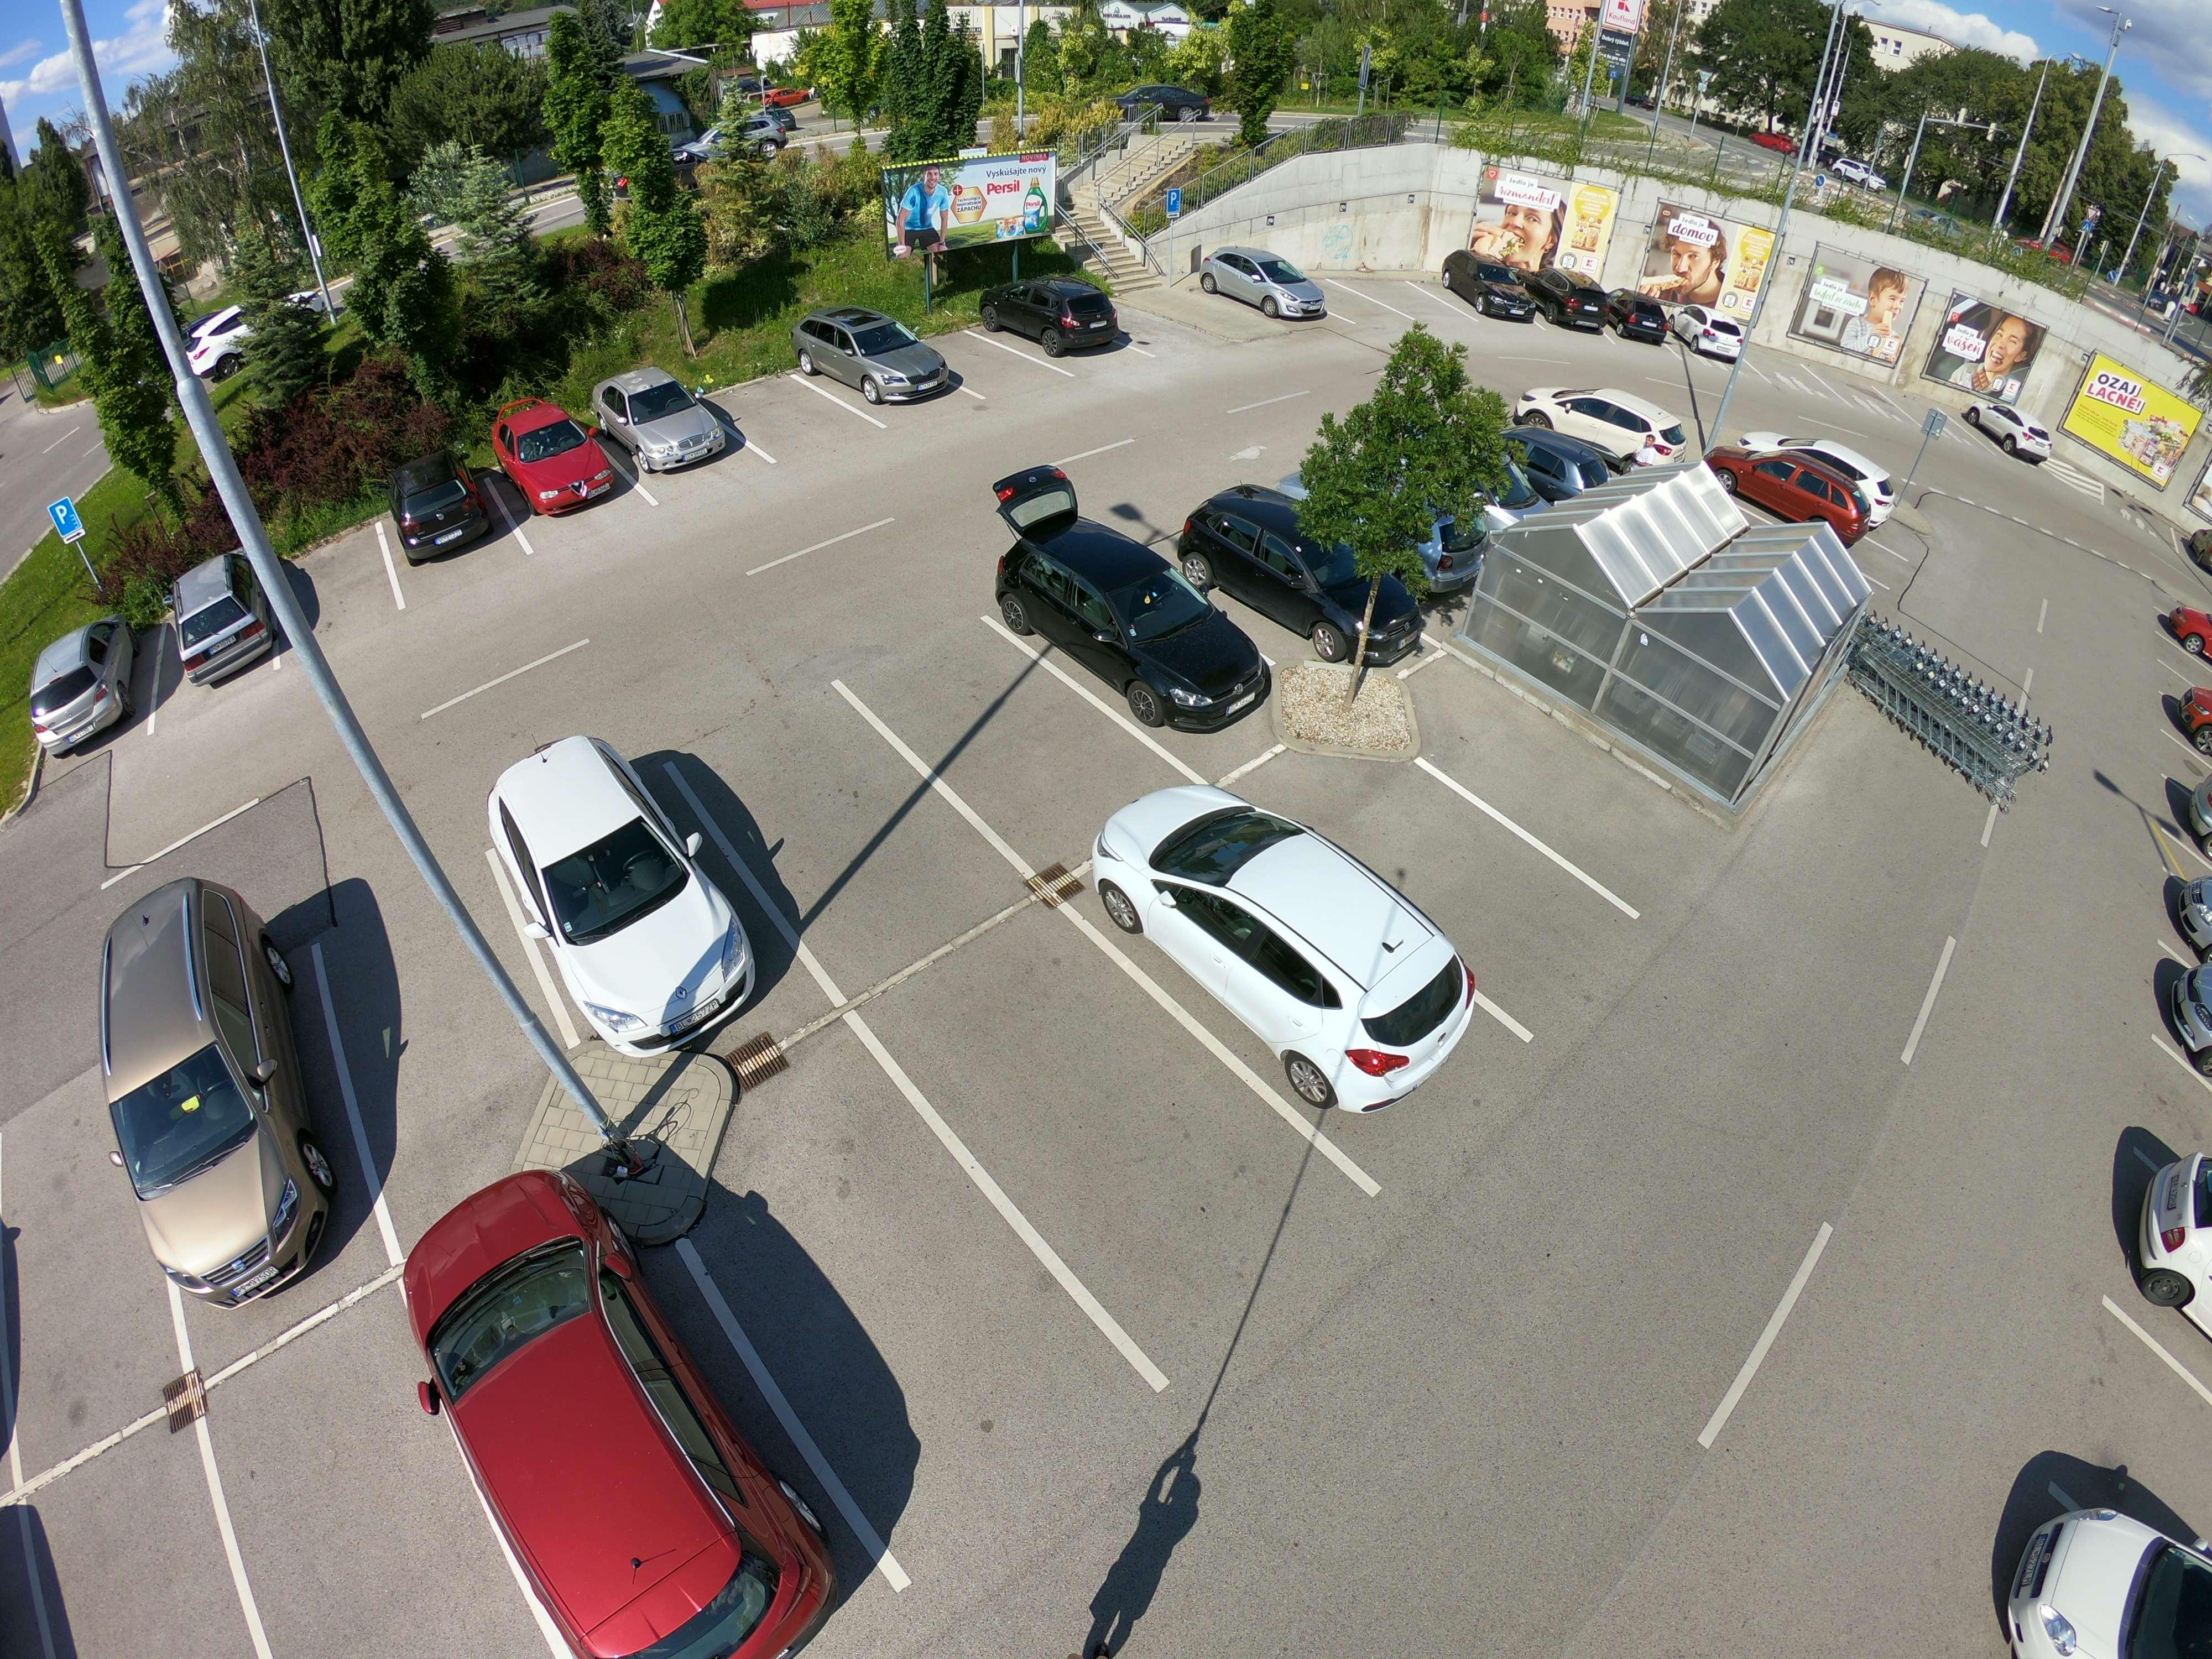empty: (418, 1183, 759, 1635), (42, 864, 329, 1295), (1089, 798, 1493, 1100), (469, 735, 766, 1039), (1005, 525, 1258, 728), (1980, 1457, 2212, 1659), (1200, 488, 1395, 633), (2116, 1117, 2212, 1399), (794, 300, 951, 408), (158, 544, 279, 681), (477, 394, 617, 511), (603, 362, 742, 474), (24, 613, 141, 746), (1709, 434, 1872, 526), (381, 448, 496, 565), (1538, 375, 1684, 458), (1003, 272, 1130, 366), (1205, 235, 1327, 324), (1440, 235, 1543, 322), (1514, 254, 1616, 335), (1956, 389, 2054, 464), (1585, 265, 1670, 350), (1665, 293, 1742, 368)
occupied: (3, 1161, 171, 1377), (768, 1173, 989, 1331), (263, 1448, 455, 1619), (322, 943, 507, 1117), (982, 1025, 1177, 1182), (747, 775, 930, 903), (52, 1542, 246, 1659), (2080, 1363, 2209, 1523), (1376, 810, 1500, 917), (963, 688, 1087, 795), (1465, 713, 1580, 795), (279, 544, 383, 633), (1740, 338, 1846, 404), (1127, 295, 1204, 352), (745, 392, 824, 444), (944, 335, 1005, 385), (1381, 281, 1444, 329)
